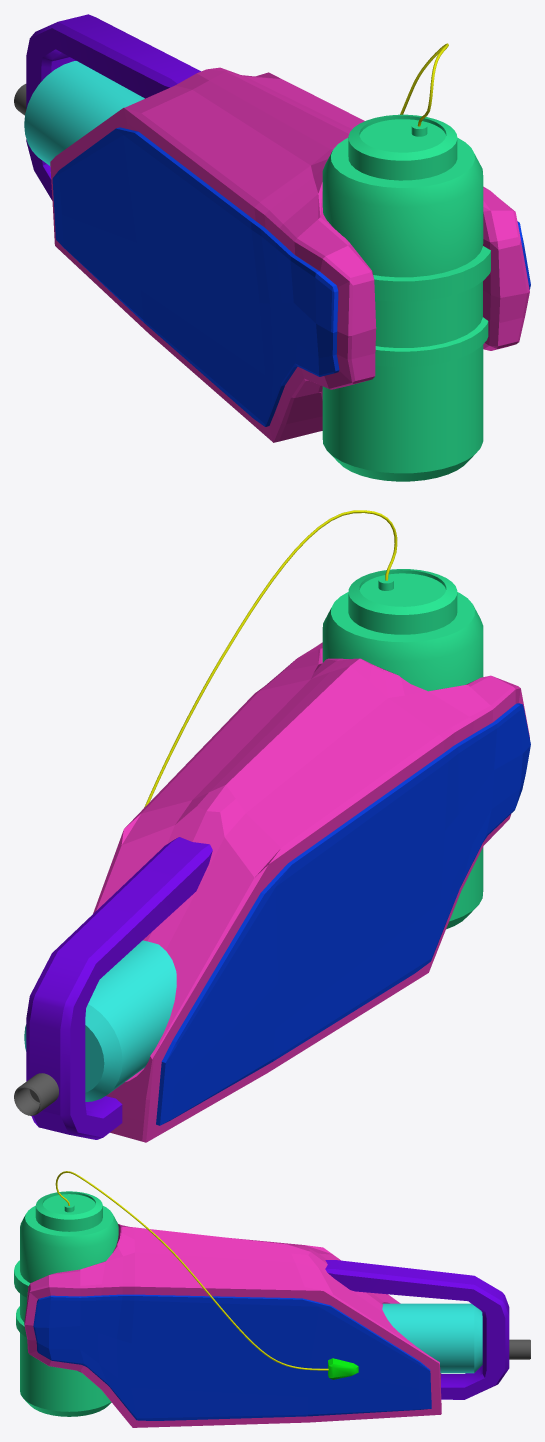
File: machinegun.fbx
3 views of the same model, one above another, from view 1: azimuth 30°, elevation 25°; view 2: azimuth 150°, elevation 25°; view 3: azimuth 270°, elevation 25° (orthographic). The views are drawn at different scales.
Visible parts, largest first — view 1: Cylinder.002, Cube.003, machine gun, Cube.001, Cylinder.001, BezierCurve; view 2: machine gun, Cube.003, Cube.001, Cylinder.002, Cylinder.001, BezierCurve, Cylinder; view 3: Cube.003, machine gun, Cylinder.002, Cube.001, Cylinder.001, BezierCurve, Cube.004, Cylinder.
Boxes of the visible parts, bbox=[...] form: Cylinder.002: bbox=[322, 114, 490, 481]; Cube.003: bbox=[52, 127, 530, 426]; machine gun: bbox=[50, 67, 529, 442]; Cube.001: bbox=[26, 14, 200, 200]; Cylinder.001: bbox=[24, 61, 144, 165]; BezierCurve: bbox=[400, 43, 448, 126]; machine gun: bbox=[93, 642, 529, 1142]; Cube.003: bbox=[156, 703, 530, 1125]; Cube.001: bbox=[26, 837, 212, 1139]; Cylinder.002: bbox=[322, 569, 483, 929]; Cylinder.001: bbox=[24, 940, 176, 1101]; BezierCurve: bbox=[144, 510, 397, 807]; Cylinder: bbox=[14, 1073, 58, 1115]; Cube.003: bbox=[33, 1294, 431, 1420]; machine gun: bbox=[24, 1224, 441, 1427]; Cylinder.002: bbox=[14, 1191, 118, 1416]; Cube.001: bbox=[325, 1260, 509, 1399]; Cylinder.001: bbox=[382, 1303, 482, 1373]; BezierCurve: bbox=[55, 1171, 328, 1370]; Cube.004: bbox=[328, 1358, 358, 1379]; Cylinder: bbox=[509, 1339, 530, 1359].
Size of the model in its own units: 17.57 by 29.89 by 57.02.
